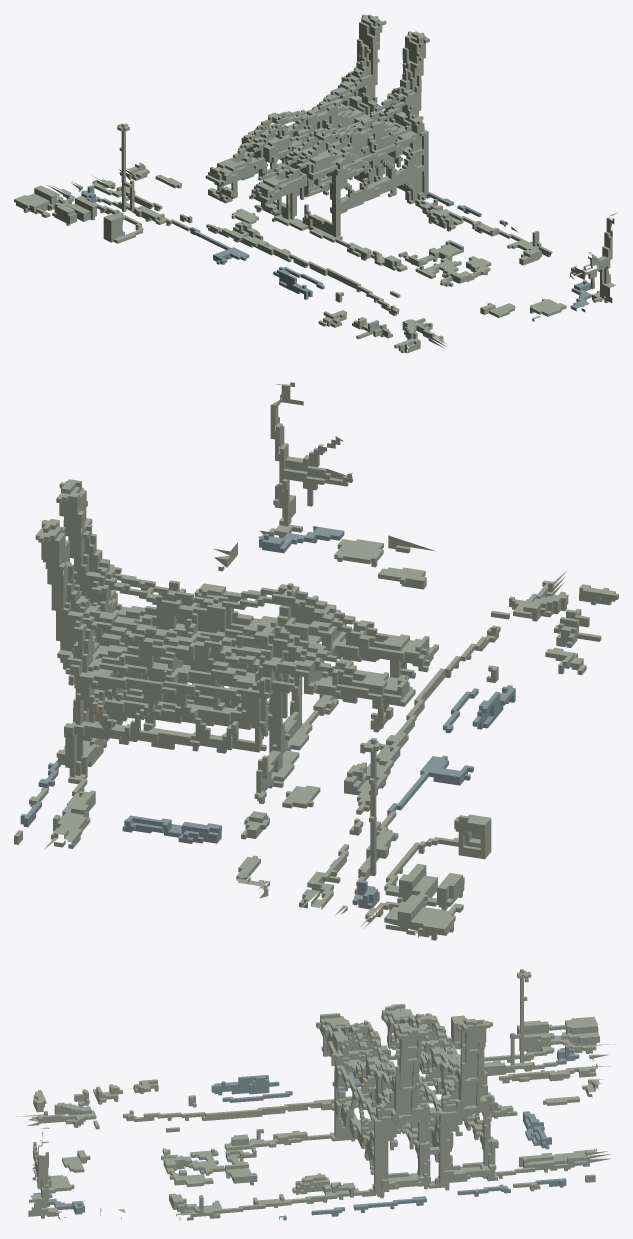
3 renders of one model, top to bottom at view 1: azimuth 30°, elevation 25°; view 2: azimuth 150°, elevation 25°; view 3: azimuth 270°, elevation 25°, orthographic. The views are drawn at different scales.
Parts seen in each view (by area): view 1: measured-industrial; view 2: measured-industrial; view 3: measured-industrial.
Part boxes in pixels (x1,y1,x2,y2): measured-industrial: (14, 14, 617, 353); measured-industrial: (14, 382, 618, 940); measured-industrial: (16, 969, 615, 1220).
Bounding box in the file's own units: 207 × 87.21 × 268.
